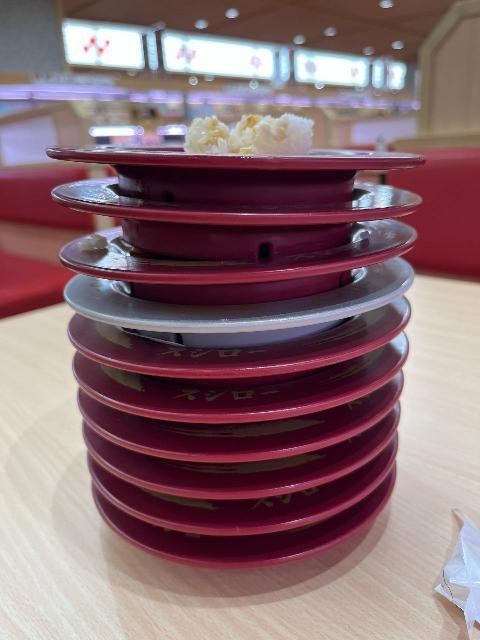janred: (56, 162, 393, 230), (67, 517, 383, 586), (49, 143, 423, 188), (44, 223, 410, 268), (50, 340, 418, 384), (64, 387, 378, 431), (101, 496, 364, 540), (93, 430, 387, 468), (116, 467, 372, 501)
janwhite: (53, 280, 420, 330)
